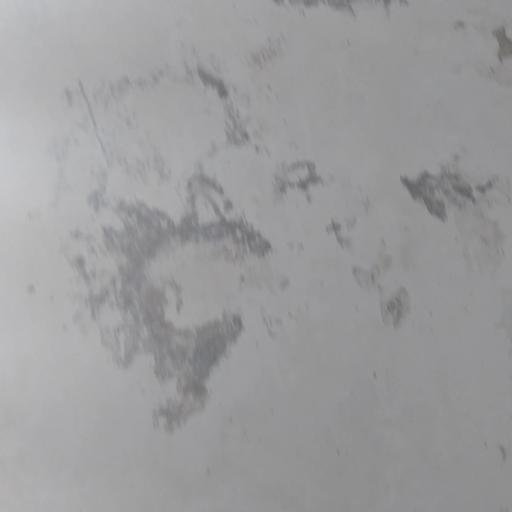peeling: (56, 61, 319, 451), (326, 189, 423, 344), (392, 155, 512, 240), (282, 0, 415, 35), (476, 20, 512, 98)
